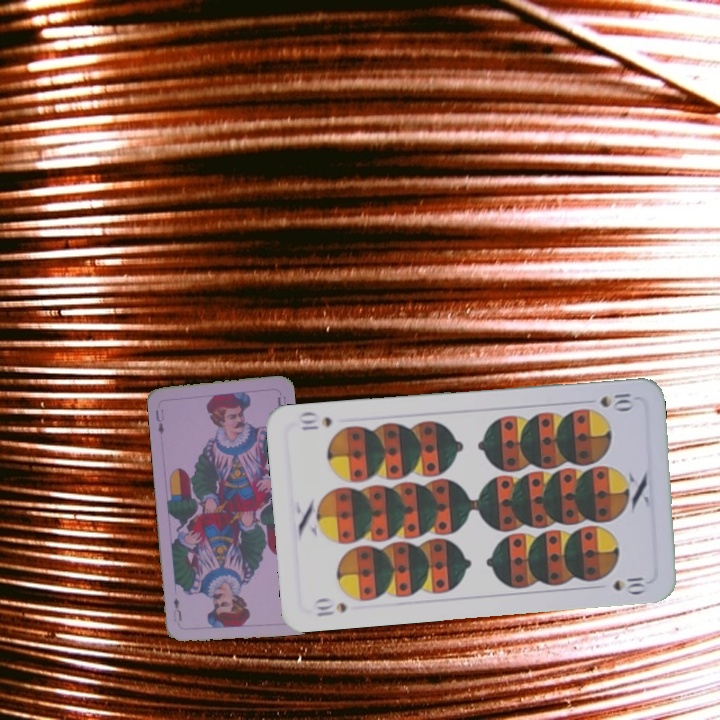EU: (151, 405, 167, 437)
S10: (310, 595, 349, 620), (596, 389, 634, 412)
